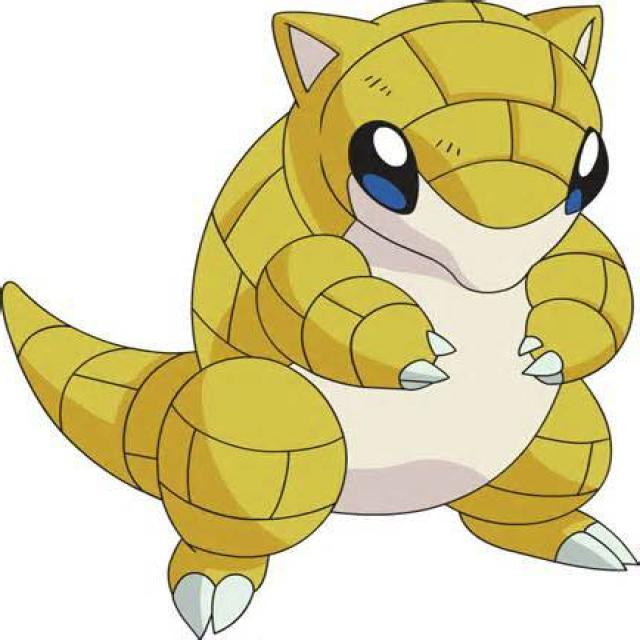Sandshrew: (176, 0, 639, 571)
